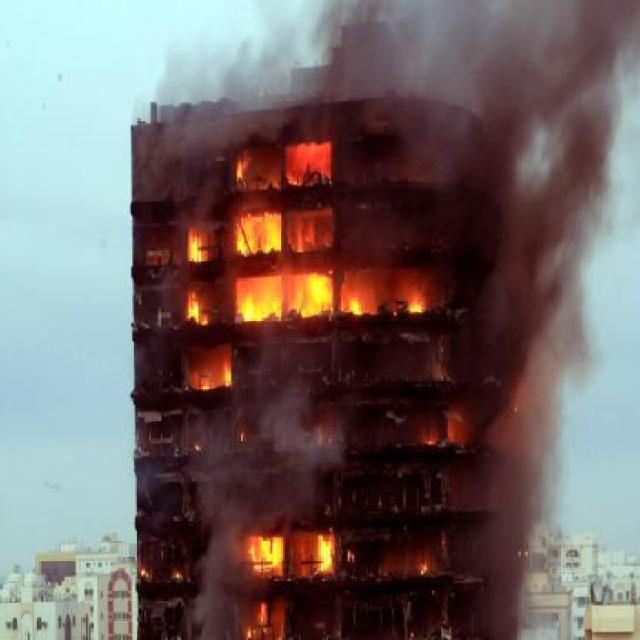Fire: (160, 138, 463, 324), (232, 524, 448, 584), (402, 407, 468, 453), (238, 586, 290, 639), (182, 344, 236, 393)
